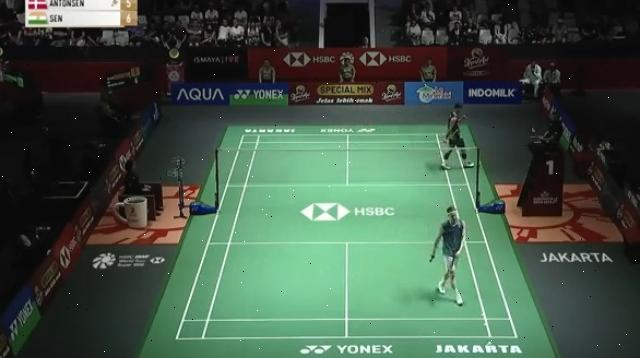Shuttlecock: (483, 338, 497, 348)
